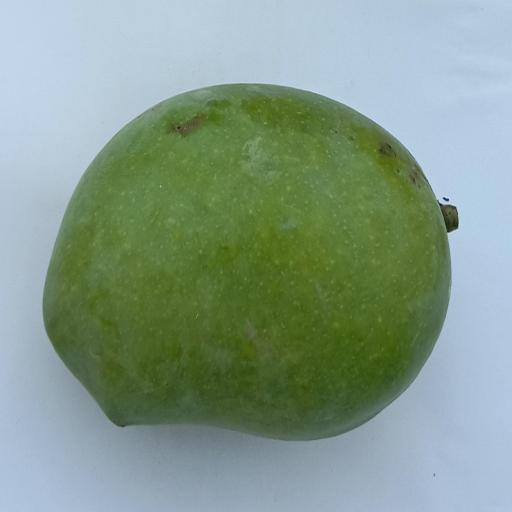mango-unripe: (16, 63, 487, 460)
